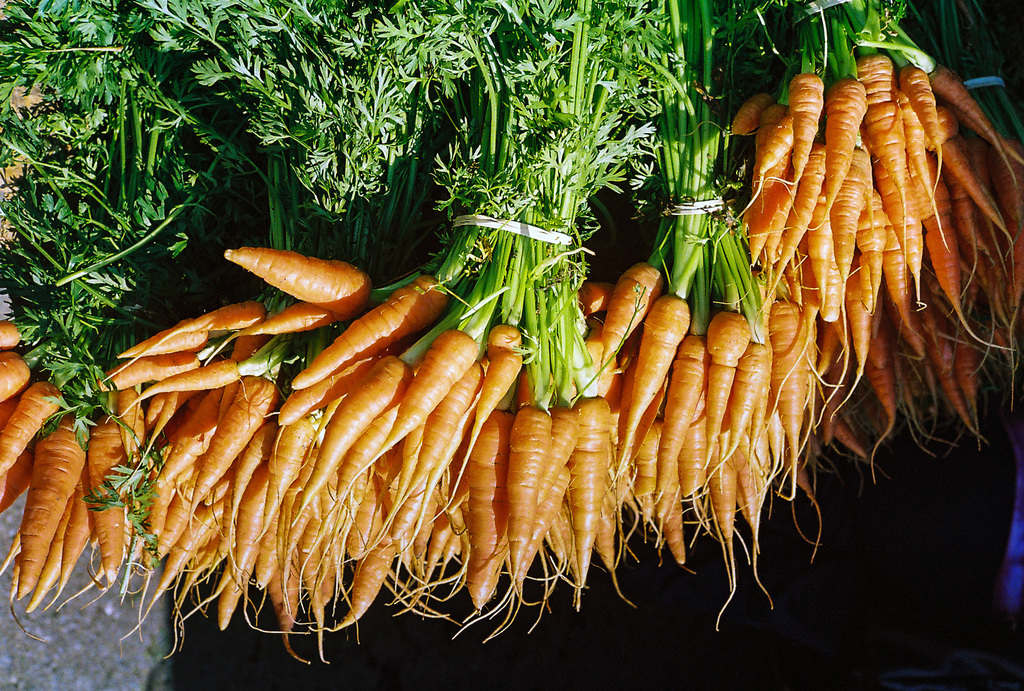Carrot: (0, 51, 1023, 669), (317, 274, 462, 369), (223, 240, 375, 321)
